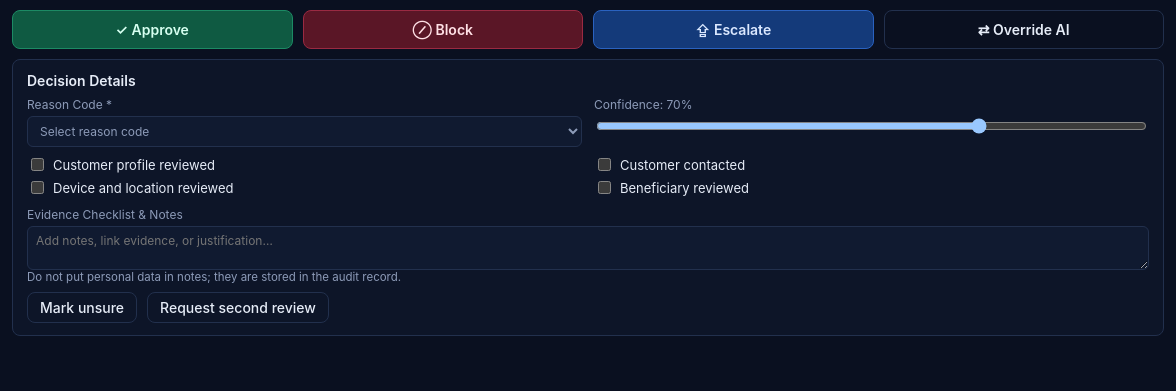
ActionPanel › shows the server's error and keeps the form so nothing is lost
This screenshot has width=1176, height=391.
Type "keep me" into the text box labelled "Notes". click: (588, 248)
box: [27,226,1149,270]
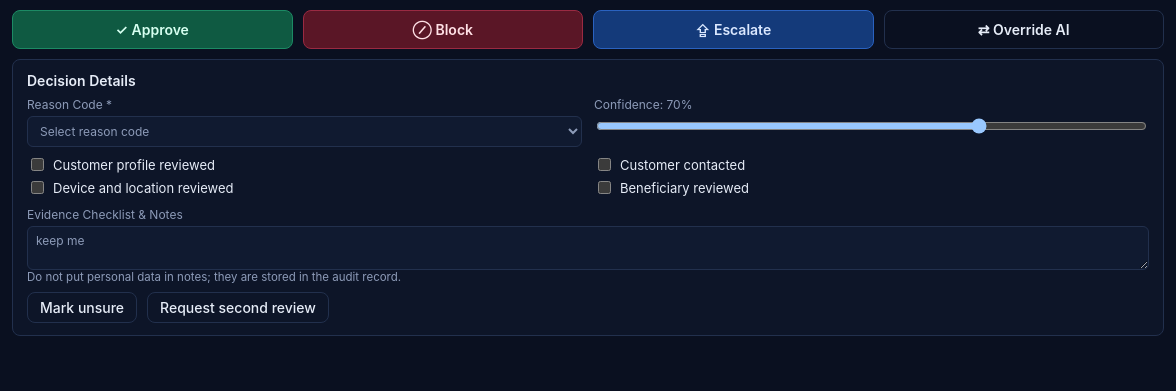
Click the button "✓ Approve". click: (152, 30)
box: [12,10,292,49]
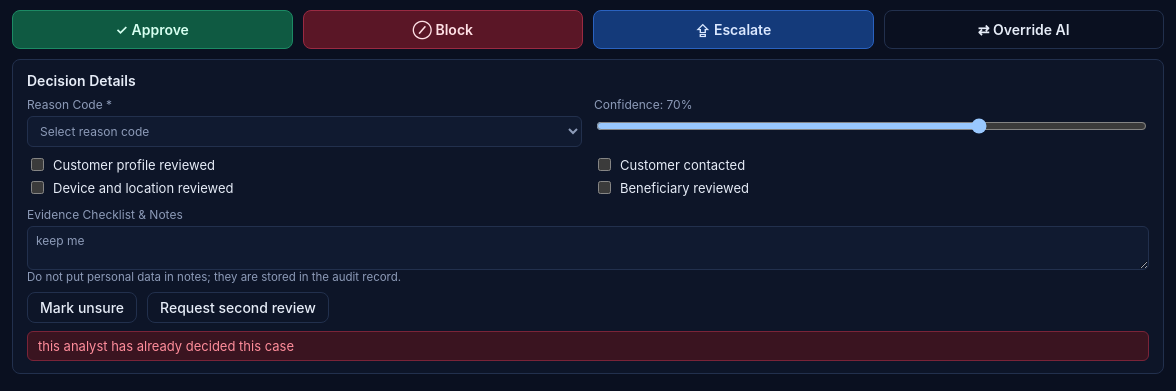
Now the message reads "this analyst has already decided this case", box [38,338,294,354]
